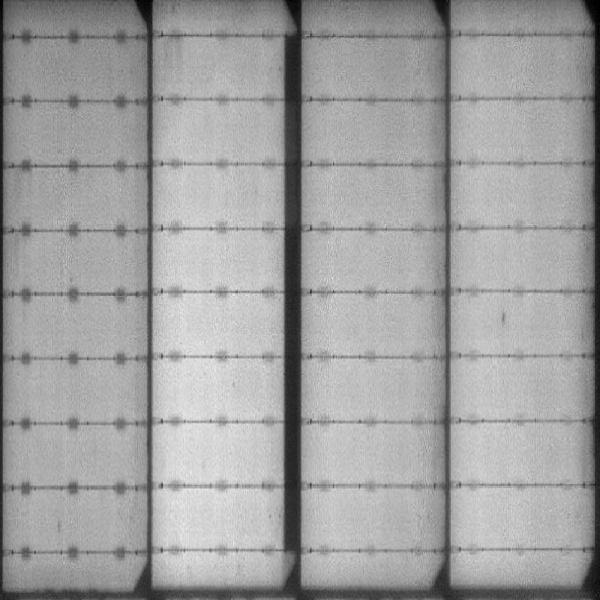black_border: (278, 35, 305, 557)
